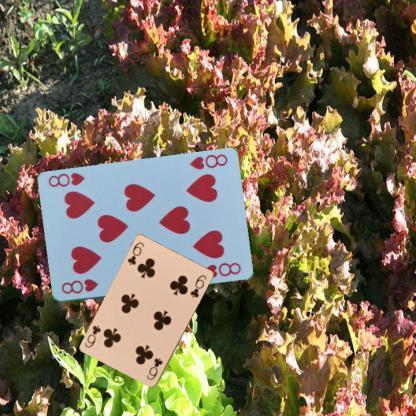6c: (125, 239, 145, 266), (144, 356, 164, 382)
8h: (187, 152, 229, 172), (58, 276, 100, 295)
